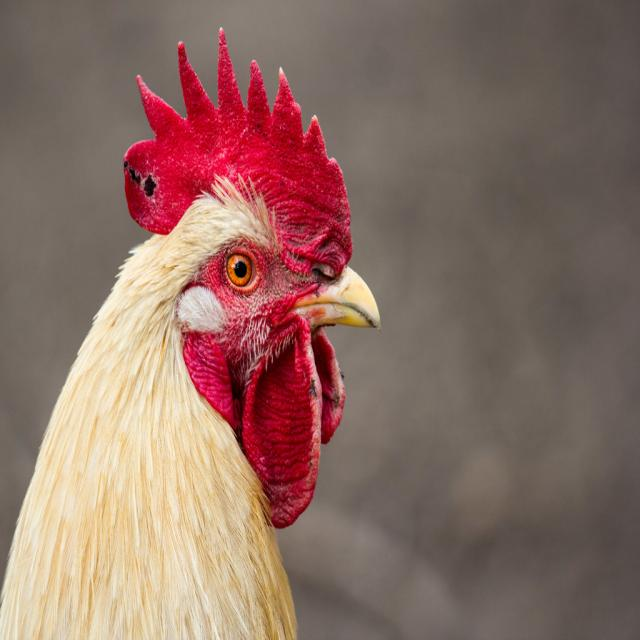Chicken: (0, 27, 382, 640)
